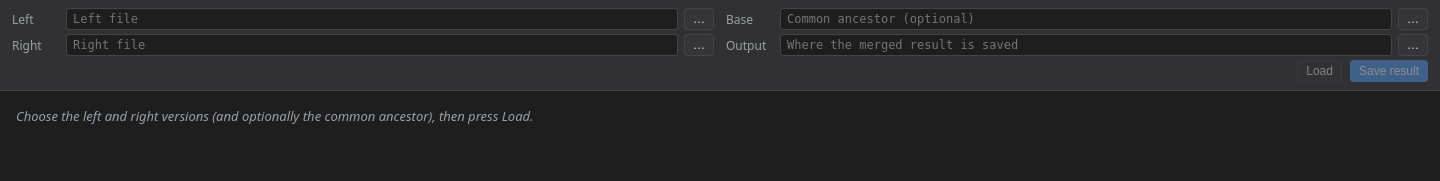
it: <MergeTab /> › waits for the user when paths are missing, then loads on demand
This screenshot has width=1440, height=181.
Expected: the button "Load" is disabled, x1=1297 y1=60 x2=1342 y2=82
Type "/left.txt" into the field named "Left file path".
click(372, 19); type("/left.txt")  # box x1=66 y1=8 x2=678 y2=30
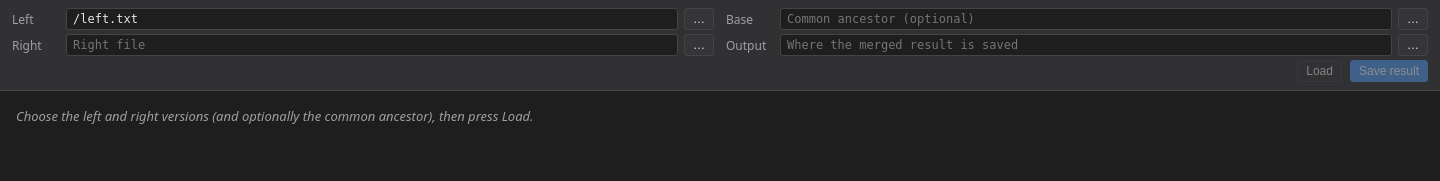
Type "/right.txt" into the field named "Right file path".
click(372, 45); type("/right.txt")  # box x1=66 y1=34 x2=678 y2=56
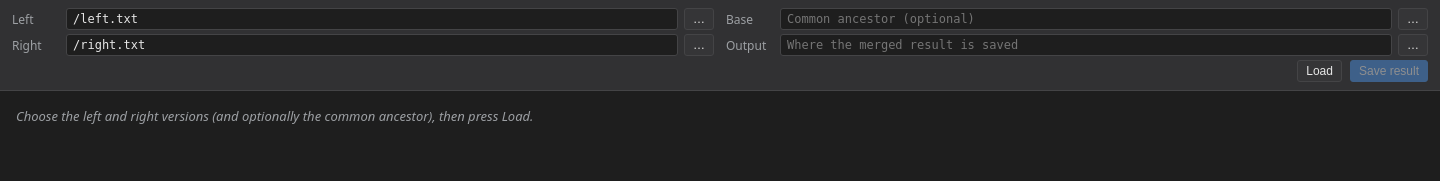
Now the button "Load" is enabled, box x1=1297 y1=60 x2=1342 y2=82
Press Enter in the field named "Right file path", box x1=66 y1=34 x2=678 y2=56
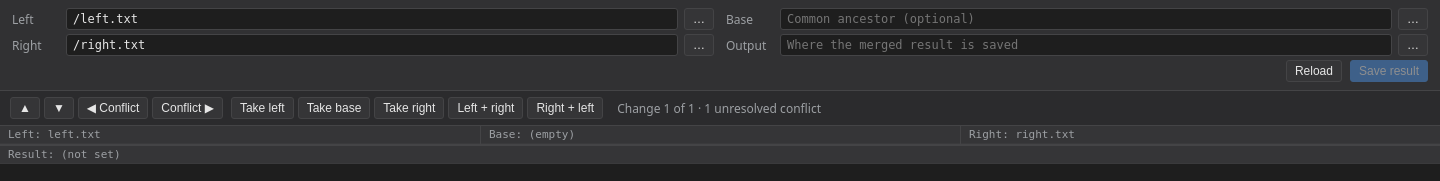
Now the message shows "Change", box x1=617 y1=100 x2=821 y2=116
Now the text "Base: (empty)" is shown, box x1=481 y1=126 x2=960 y2=144
Now the text "Result: (not set)" is shown, box x1=0 y1=146 x2=1439 y2=164
